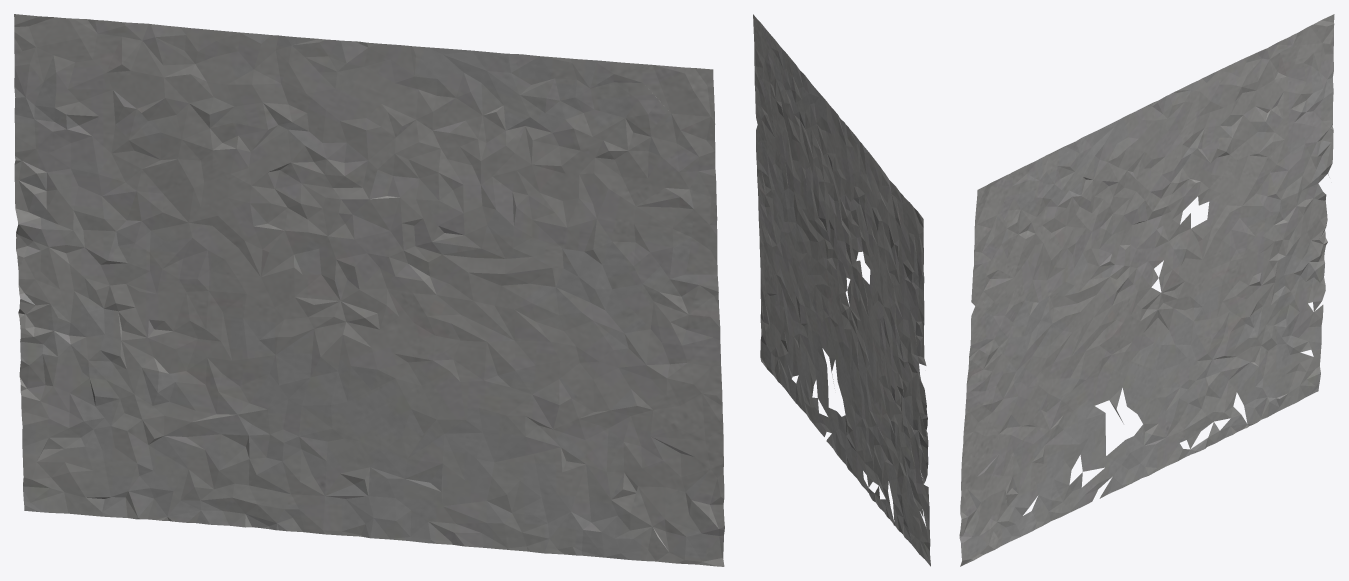
The picture shows the model from 3 angles, left to right: view 1: azimuth 30°, elevation 25°; view 2: azimuth 150°, elevation 25°; view 3: azimuth 270°, elevation 25°; orthographic projection. The views are drawn at different scales.
Size of the model in its own units: 0.8374 by 0.8374 by 0.7547.
4 materials, 4 textured.
